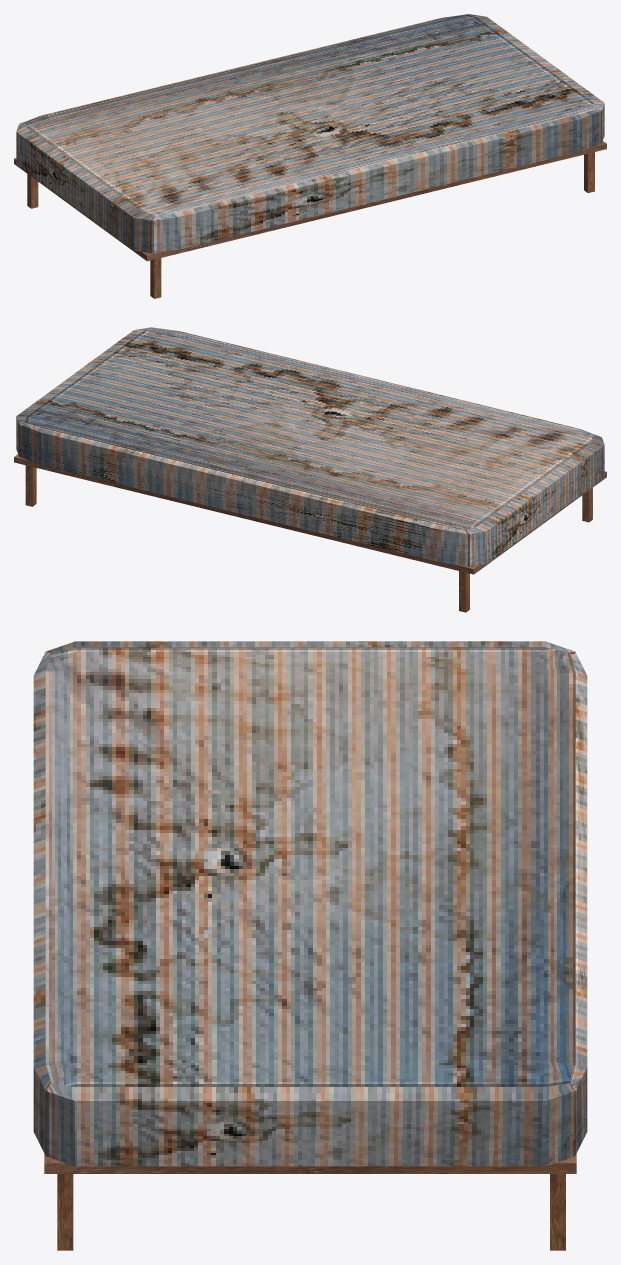
The model's file is bed.glb.
The picture shows the model from 3 angles, top to bottom: view 1: azimuth 30°, elevation 25°; view 2: azimuth 150°, elevation 25°; view 3: azimuth 270°, elevation 25°; orthographic projection. The views are drawn at different scales.
Parts seen in each view (by area): view 1: Bed; view 2: Bed; view 3: Bed.
Boxes of the visible parts, x1=… form: Bed: x1=14, y1=14, x2=606, y2=298; Bed: x1=14, y1=327, x2=606, y2=612; Bed: x1=33, y1=641, x2=587, y2=1250.
Size of the model in its own units: 3.25 by 0.5581 by 1.66.
Materials: 2 (2 with a texture image).
